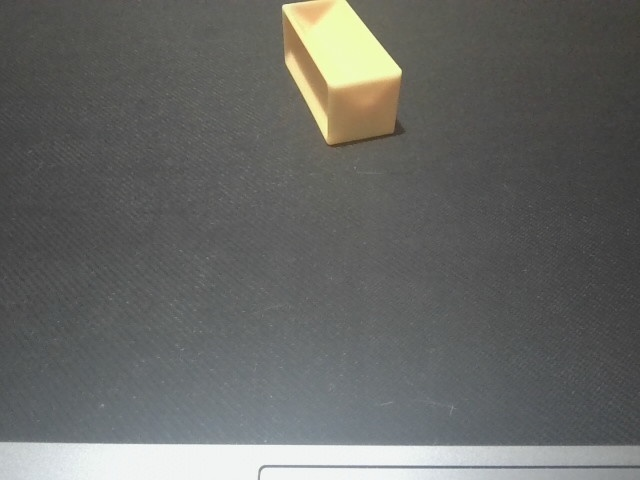YellowSample: (277, 1, 405, 146)
